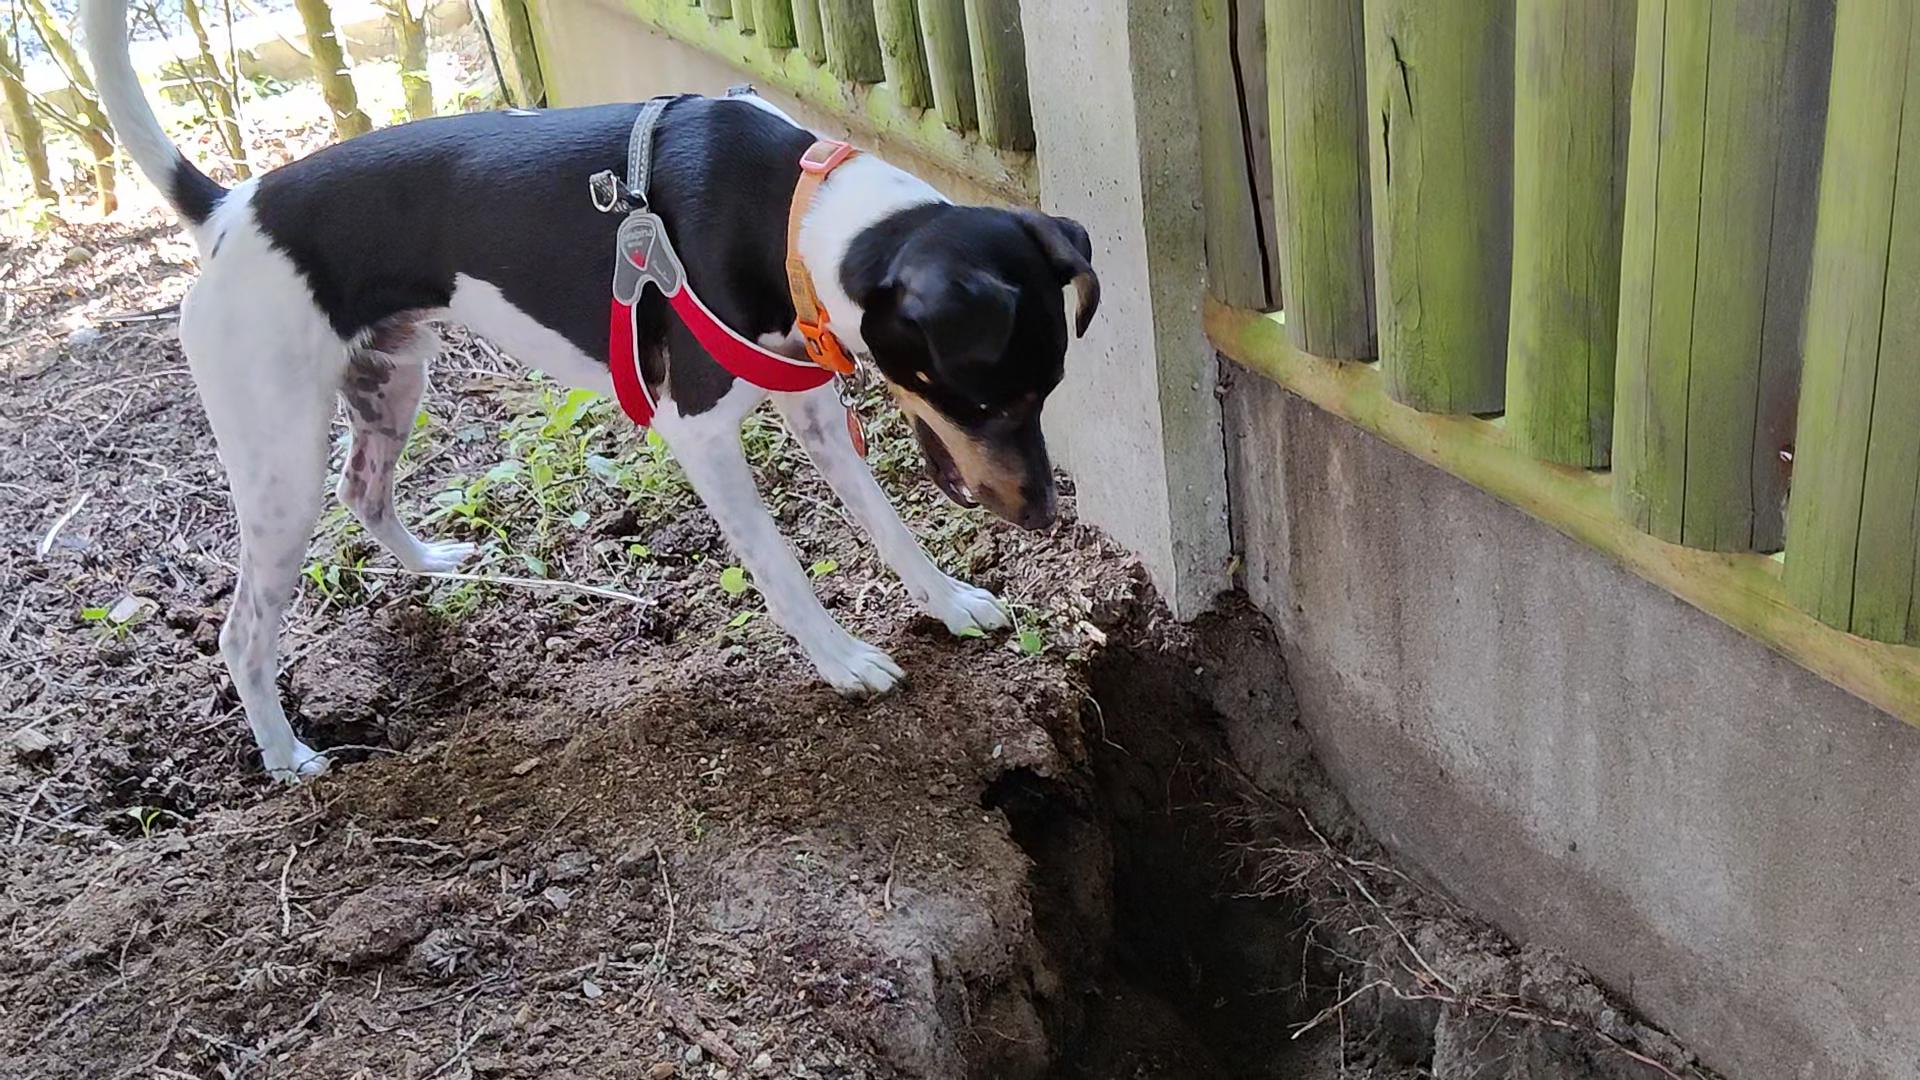Dog: (55, 0, 1138, 804)
